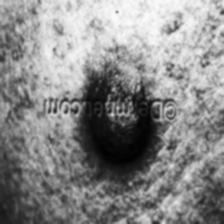Potentially Malignant Skin Tumors: (86, 79, 148, 161)
